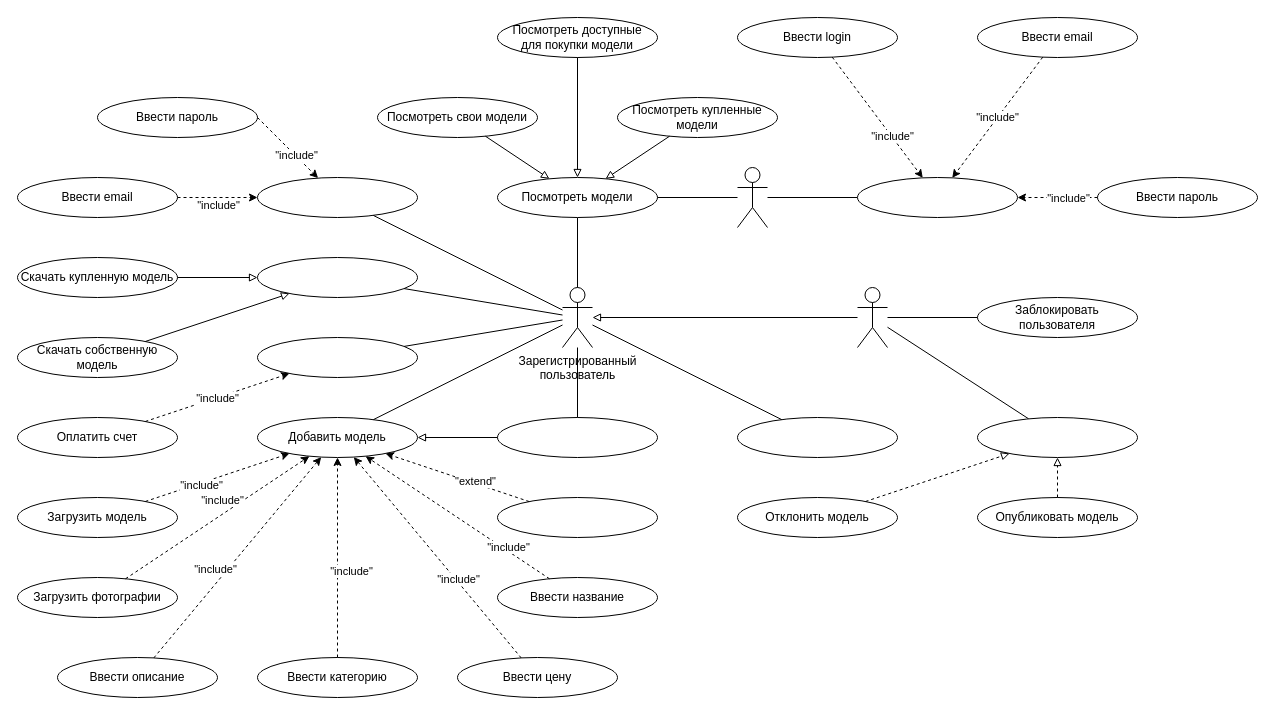
This 1275x715 diagram has some shape labels left out. The centre of each missing label's shape, as x and y in pixels:
Авторизоваться: (337,197)
Администратор: (872,317)
Загрузить видео: (577,517)
Зарегистрироваться: (937,197)
Купить модель: (337,357)
Менять статус модели: (1057,437)
Незарегистрированный пользователь: (752,197)
Редактировать модель: (577,437)
Скачать модель: (337,277)
Скрыть модель из поисковой выдачи: (817,437)
